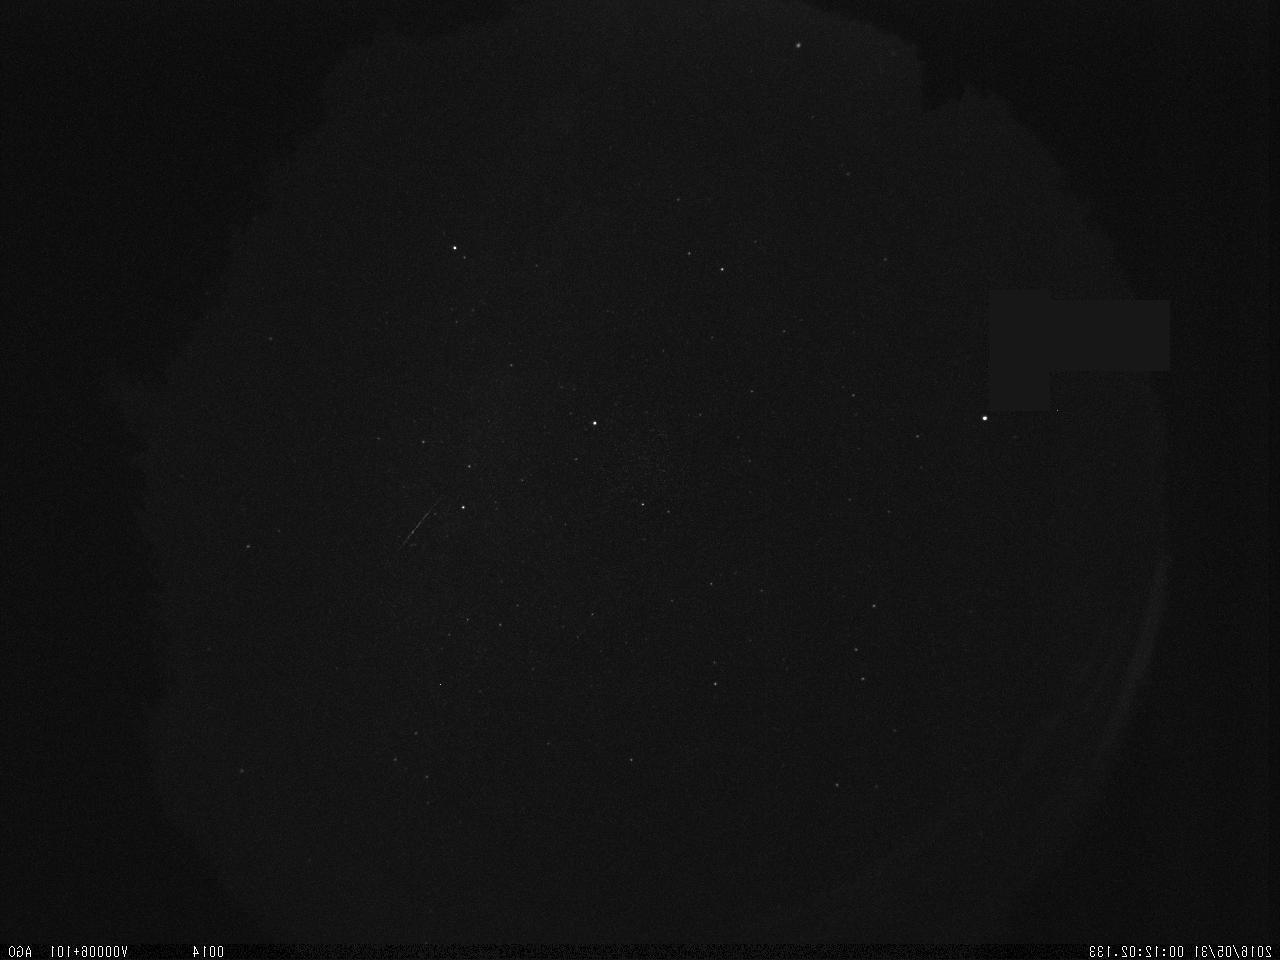meteor: (379, 489, 450, 559)
